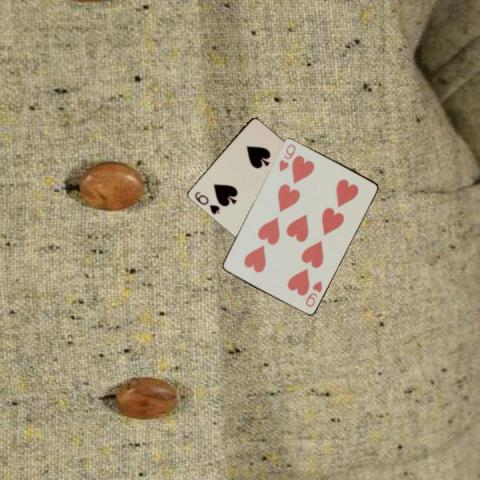6s: (192, 189, 222, 216)
9h: (276, 140, 297, 172), (303, 277, 323, 309)
